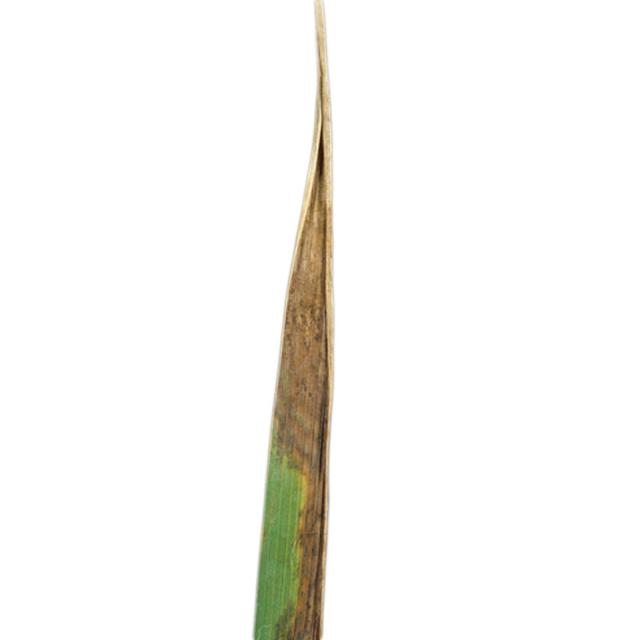Leaf scald: (175, 0, 454, 640)
